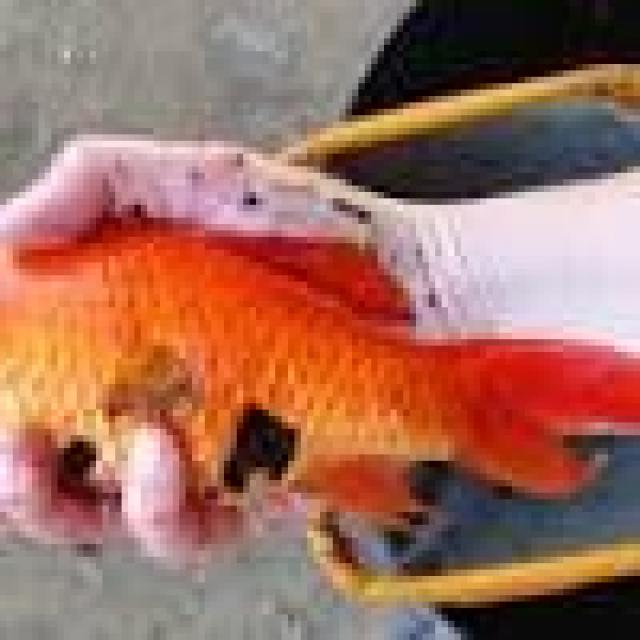Gold-Fish: (0, 160, 640, 547)
